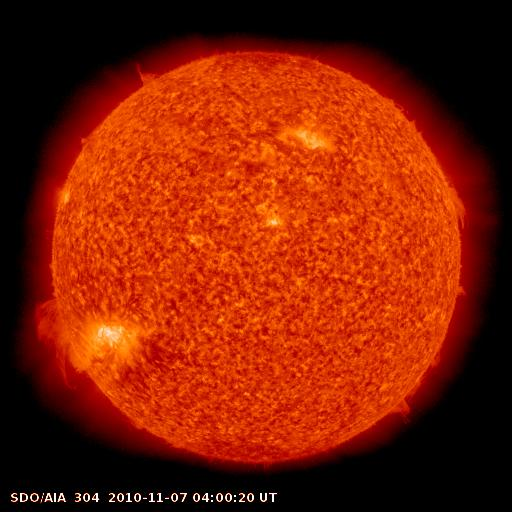prominence: (21, 282, 85, 396), (378, 338, 448, 428), (434, 167, 483, 234), (381, 92, 428, 148), (121, 51, 174, 97), (67, 122, 112, 159), (446, 256, 478, 306)
